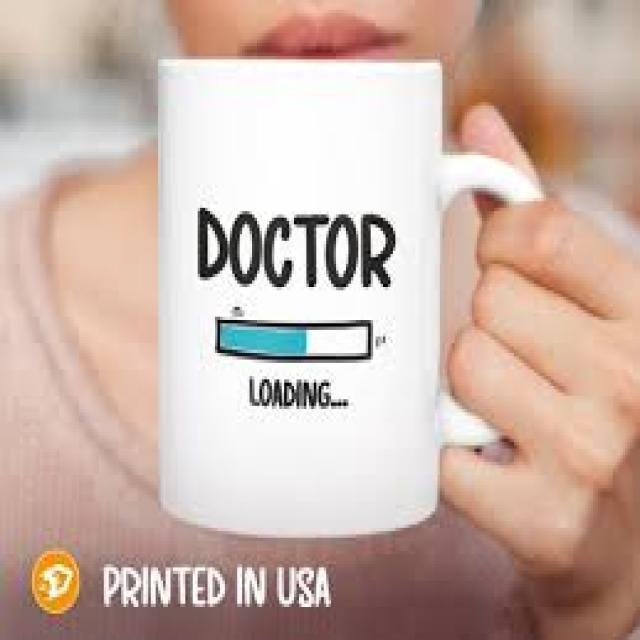taza: (142, 41, 558, 544)
